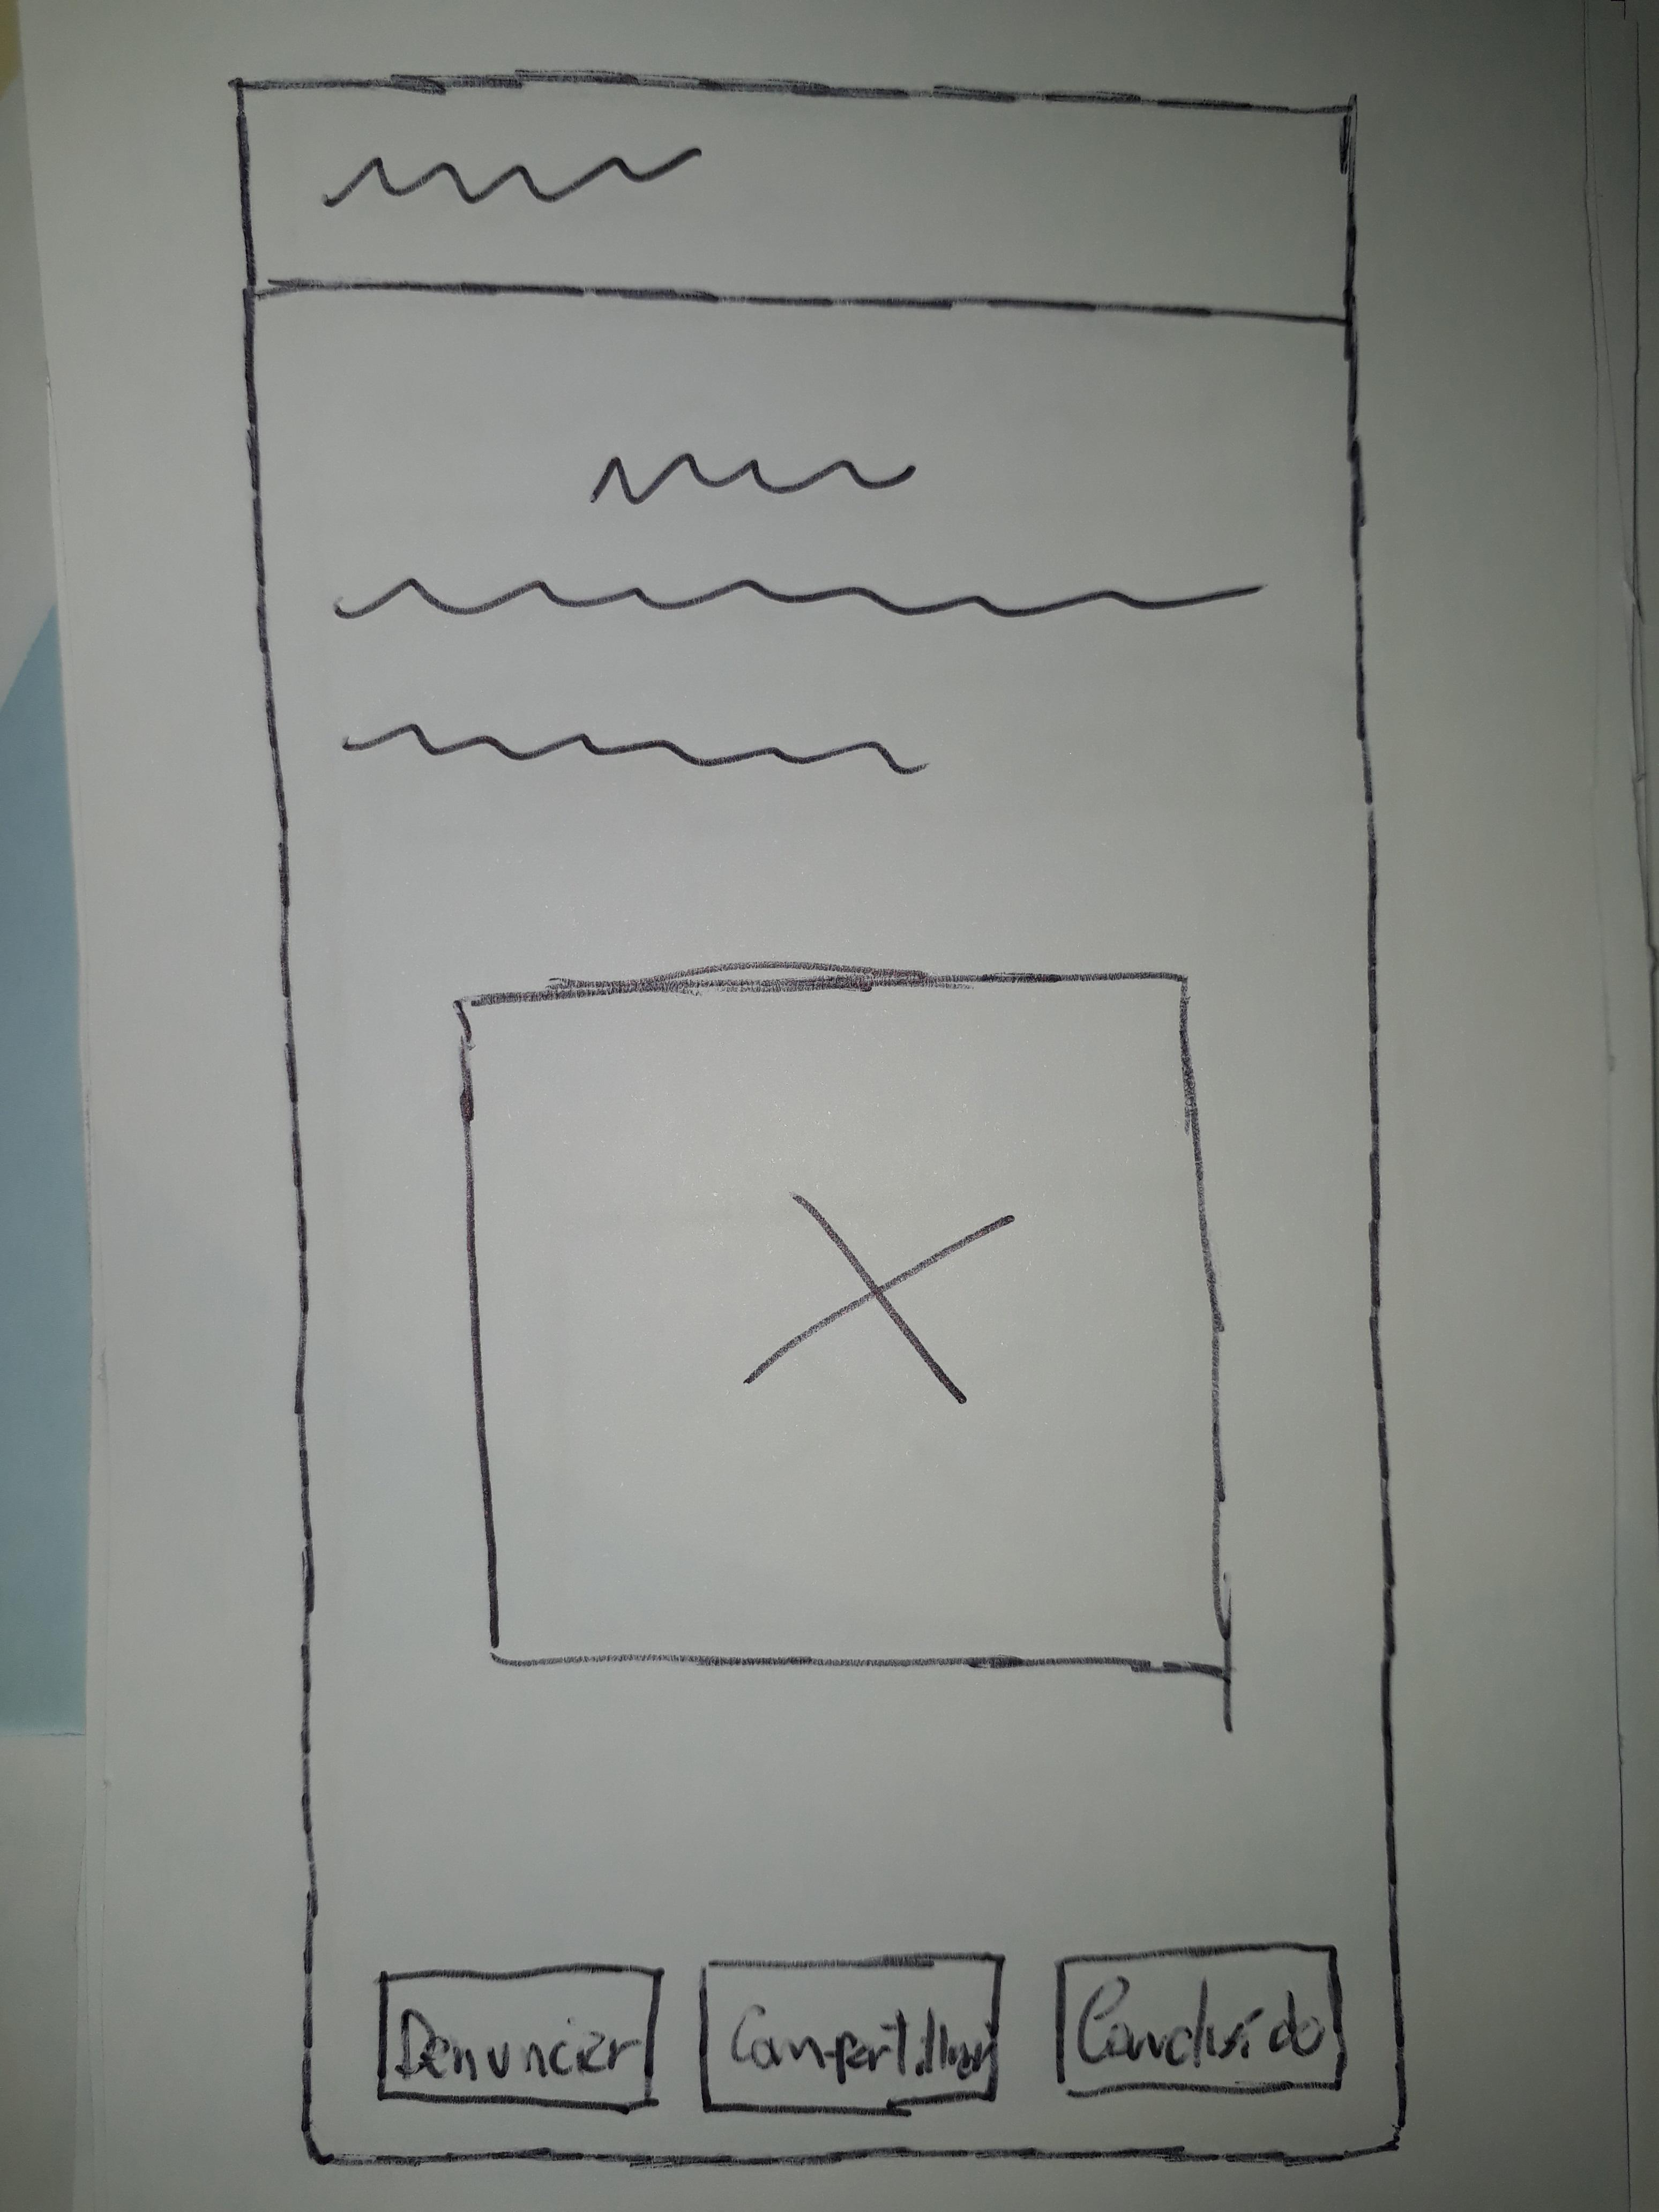Button: (695, 1954, 1006, 2116), (1049, 1946, 1347, 2102), (376, 1965, 662, 2113)
Image: (450, 968, 1230, 1683)
Label: (335, 577, 1265, 775), (319, 143, 706, 209), (589, 451, 920, 505)
Screen: (232, 73, 1406, 2161)
